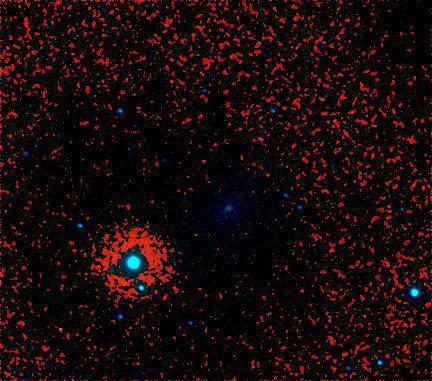star: (46, 314, 76, 344)
